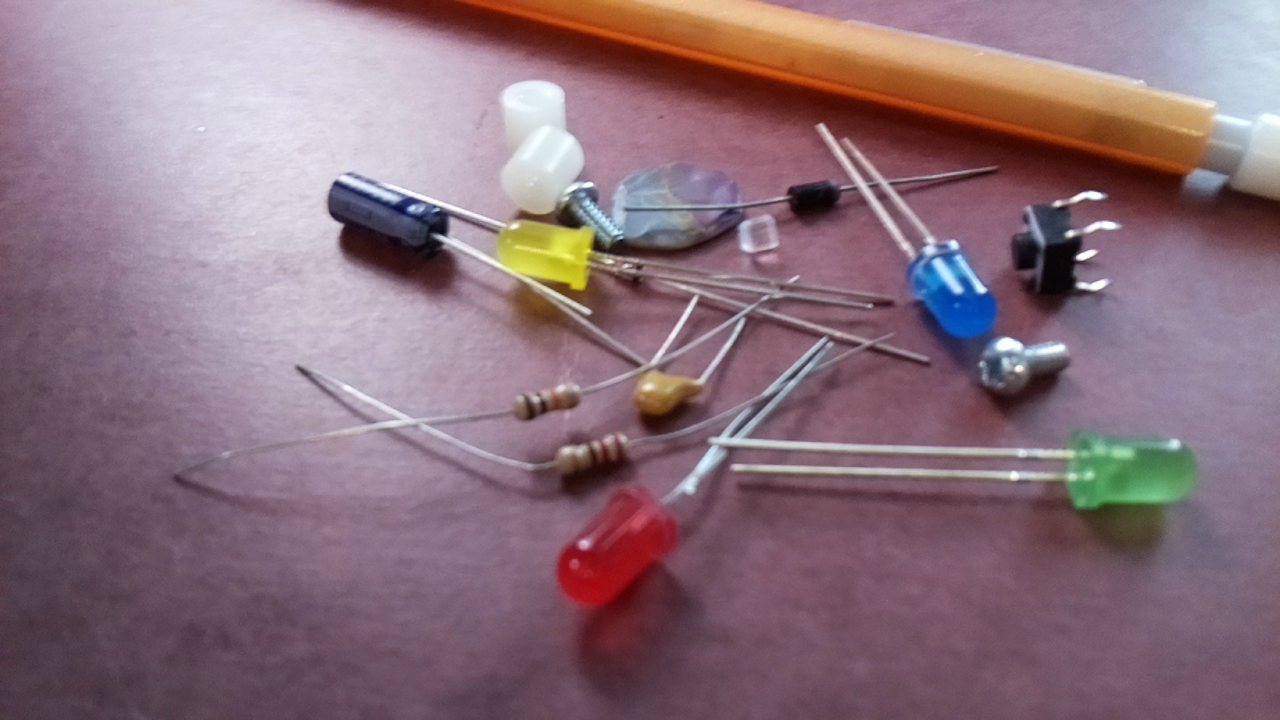button: (1007, 199, 1087, 311)
capacitor: (319, 169, 455, 264), (627, 358, 709, 424)
diode: (783, 179, 845, 214), (607, 258, 649, 286)
led: (551, 481, 683, 624), (1059, 420, 1201, 516), (900, 232, 1003, 346), (496, 215, 603, 298)
resistor: (555, 430, 633, 482), (507, 378, 587, 426)
